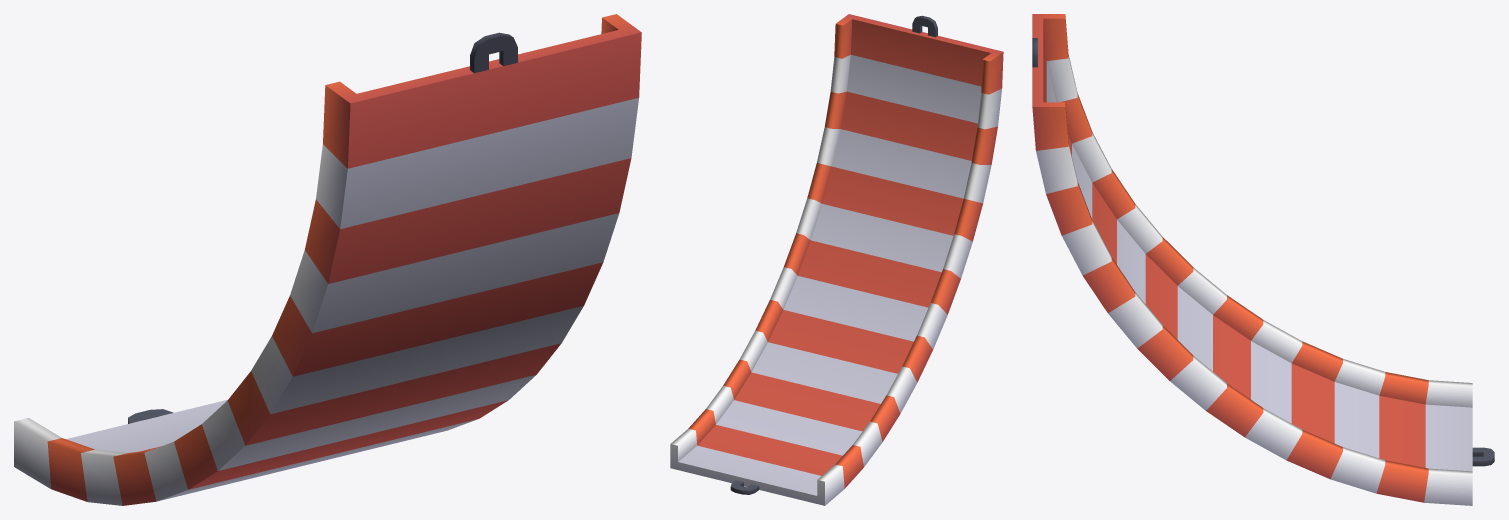
File: track-striped-wide-straight-bend-large.glb
3 renders of one model, left to right at view 1: azimuth 30°, elevation 25°; view 2: azimuth 150°, elevation 25°; view 3: azimuth 270°, elevation 25°, orthographic. The views are drawn at different scales.
Visible parts, largest first — view 1: track-striped-wide-straight-bend-large; view 2: track-striped-wide-straight-bend-large; view 3: track-striped-wide-straight-bend-large.
Boxes of the visible parts, box(x1,y1,x2,y2) form: track-striped-wide-straight-bend-large: box(14, 14, 641, 505); track-striped-wide-straight-bend-large: box(670, 14, 1003, 505); track-striped-wide-straight-bend-large: box(1032, 14, 1494, 505).
Bounding box in the file's own units: 2 × 4.2 × 4.2.
1 material, 1 textured.
